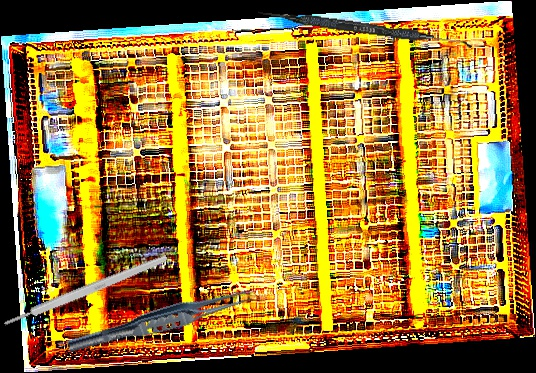Scalpel Handle: (2, 252, 169, 329)
Spatula Surgical: (257, 8, 473, 49)
Tissue Forceps: (65, 280, 255, 362)
